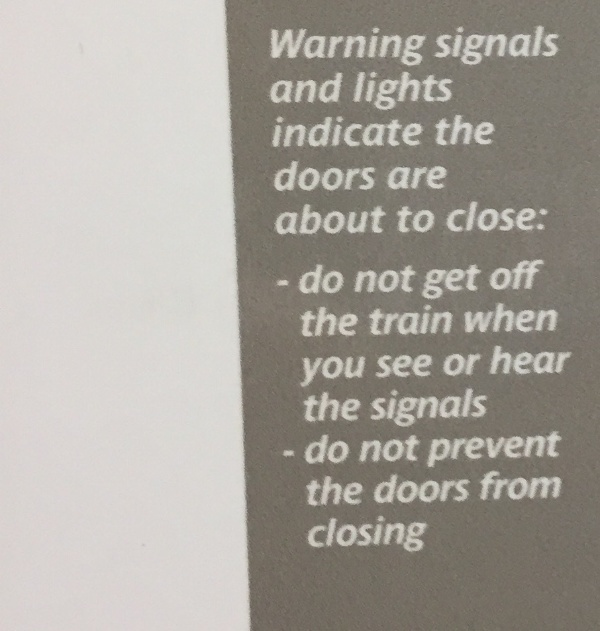text: (545, 26, 561, 66), (385, 387, 400, 428), (401, 387, 416, 428), (417, 387, 432, 428), (433, 387, 448, 428), (449, 387, 464, 428), (465, 387, 480, 428), (273, 27, 288, 67), (289, 27, 304, 67), (305, 27, 320, 67), (321, 27, 336, 67), (337, 27, 352, 67), (353, 27, 368, 67), (369, 27, 384, 67), (385, 27, 400, 67), (401, 27, 416, 67), (449, 26, 464, 66), (465, 26, 480, 66), (481, 26, 496, 66), (497, 26, 512, 66), (513, 26, 528, 66), (529, 26, 544, 66), (369, 70, 384, 110), (385, 70, 400, 110), (401, 70, 416, 110), (417, 70, 432, 110), (433, 70, 448, 110), (321, 514, 336, 553), (337, 514, 352, 553), (353, 514, 368, 553), (369, 514, 384, 553), (385, 514, 400, 553), (401, 514, 416, 553), (465, 264, 481, 300), (433, 430, 448, 467), (449, 430, 464, 467), (465, 430, 480, 467), (481, 430, 496, 467), (497, 430, 512, 467), (513, 430, 528, 467), (529, 430, 544, 467), (545, 430, 560, 467), (433, 264, 448, 300), (449, 264, 464, 300), (371, 387, 384, 428), (529, 259, 545, 291), (497, 341, 512, 375), (513, 341, 528, 375), (529, 341, 544, 375), (545, 341, 560, 375), (273, 71, 288, 104), (289, 71, 304, 104), (305, 71, 320, 104), (321, 71, 336, 104), (305, 263, 320, 296), (321, 263, 336, 296), (305, 355, 320, 388), (321, 355, 336, 388), (337, 355, 352, 388), (321, 473, 336, 506), (337, 473, 352, 506), (481, 468, 496, 501), (497, 468, 512, 501), (513, 468, 528, 501), (529, 468, 544, 501), (545, 468, 560, 501), (436, 26, 448, 66), (289, 204, 304, 236), (305, 204, 320, 236), (321, 204, 336, 236), (337, 204, 352, 236), (353, 204, 368, 236), (369, 204, 384, 236), (449, 201, 464, 233), (465, 201, 480, 233), (481, 201, 496, 233), (497, 201, 512, 233), (513, 201, 528, 233), (529, 201, 544, 233), (497, 259, 512, 291), (513, 259, 528, 291), (305, 306, 320, 338), (321, 306, 336, 338), (337, 306, 352, 338), (369, 304, 384, 336), (385, 304, 400, 336), (401, 304, 416, 336), (417, 304, 432, 336), (433, 304, 448, 336), (465, 302, 480, 334), (481, 302, 496, 334), (497, 302, 512, 334), (513, 302, 528, 334), (529, 302, 544, 334), (305, 390, 320, 422), (321, 390, 336, 422), (337, 390, 352, 422), (561, 341, 575, 375), (289, 116, 304, 147), (305, 116, 320, 147), (321, 116, 336, 147), (337, 116, 352, 147), (353, 116, 368, 147), (369, 116, 384, 147), (385, 116, 400, 147), (401, 116, 416, 147), (449, 115, 464, 146), (465, 115, 480, 146), (305, 434, 320, 465), (321, 434, 336, 465), (385, 473, 400, 504), (401, 473, 416, 504), (417, 473, 432, 504), (433, 473, 448, 504), (449, 473, 464, 504), (353, 355, 367, 388), (306, 473, 320, 506), (289, 161, 304, 191), (305, 161, 320, 191), (321, 161, 336, 191), (337, 161, 352, 191), (353, 161, 368, 191), (545, 302, 559, 334), (401, 205, 416, 234), (417, 205, 432, 234), (481, 115, 495, 146), (337, 434, 351, 465), (309, 514, 320, 553), (369, 265, 384, 293), (385, 265, 400, 293), (401, 265, 416, 293), (369, 435, 384, 463), (385, 435, 400, 463), (401, 435, 416, 463), (275, 204, 288, 236), (275, 116, 288, 147), (417, 354, 433, 379), (353, 473, 365, 506), (275, 161, 288, 191), (449, 351, 464, 377), (465, 351, 480, 377), (417, 514, 427, 553), (401, 166, 416, 191), (417, 166, 432, 191), (433, 166, 448, 191), (385, 354, 400, 379), (401, 354, 416, 379), (436, 115, 448, 146), (417, 27, 426, 67), (359, 70, 368, 110), (422, 264, 432, 300), (481, 387, 489, 428), (353, 390, 363, 422), (374, 473, 384, 504), (357, 265, 368, 293), (337, 263, 346, 296), (389, 166, 400, 191), (369, 161, 377, 191), (337, 71, 344, 104), (376, 354, 384, 379), (361, 435, 368, 463), (353, 306, 359, 338), (465, 473, 471, 504), (449, 70, 453, 110), (545, 201, 550, 233), (417, 116, 422, 147), (300, 263, 304, 296), (492, 259, 496, 291), (300, 306, 304, 338), (449, 304, 453, 336), (417, 435, 421, 463), (276, 279, 288, 288), (269, 71, 272, 104), (301, 355, 304, 388), (289, 448, 297, 459), (397, 205, 400, 234), (433, 205, 436, 234), (270, 27, 272, 67), (445, 351, 448, 377), (481, 351, 484, 377), (281, 448, 288, 459), (561, 430, 563, 467), (561, 468, 563, 501), (385, 204, 387, 236), (446, 201, 448, 233), (495, 341, 496, 375), (449, 166, 450, 191), (289, 279, 291, 288)
